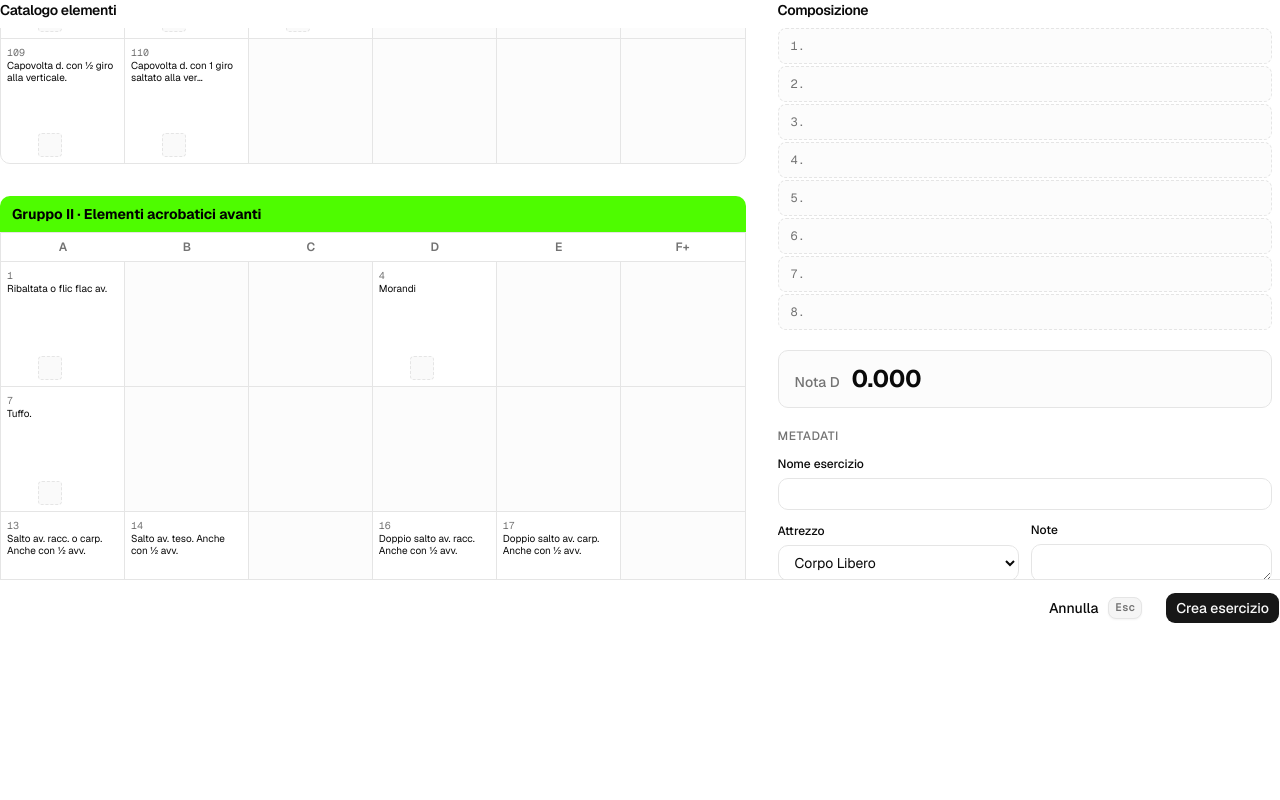
ExerciseForm › opens the cdp dialog when clicking an element card
(page scrolled)
Click the text "Ribaltata o flic flac av." at (62, 289), box [7,283,118,295]
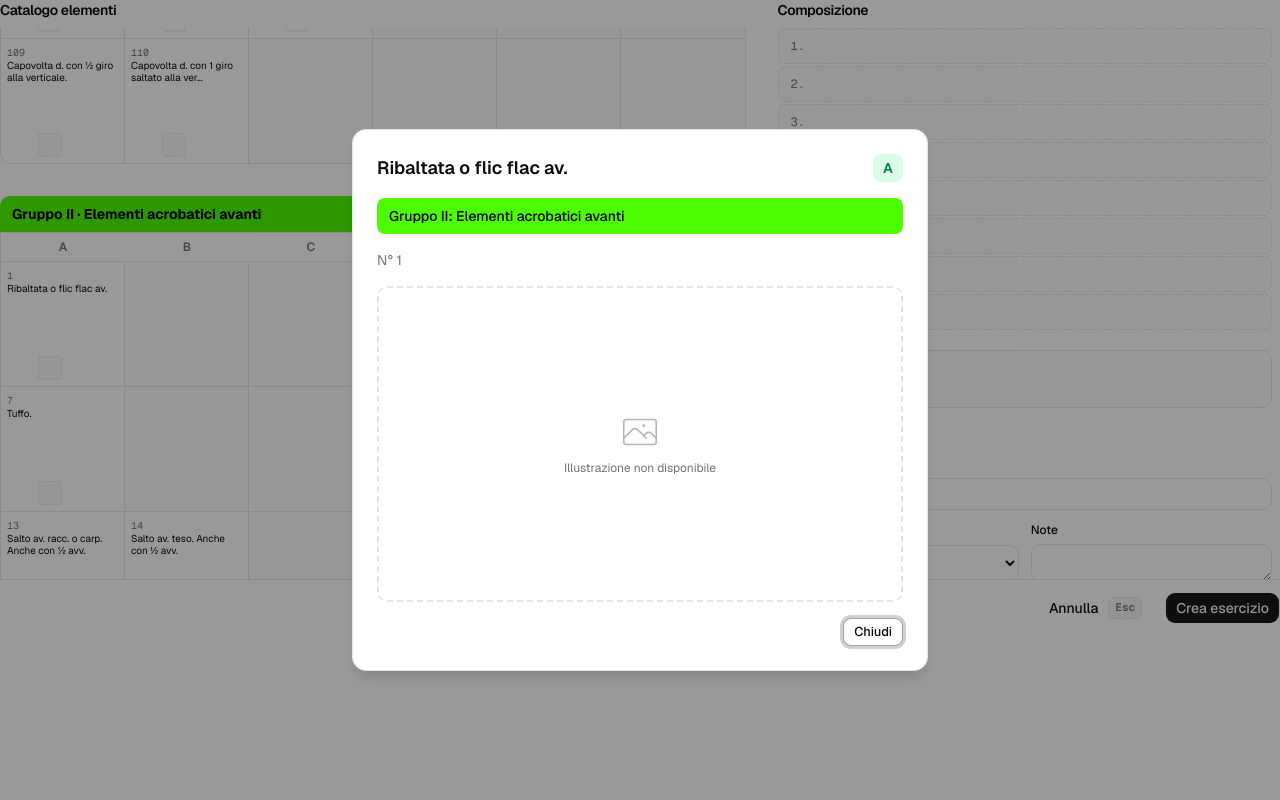
Result: the dialog is shown at [352,129,928,671]
